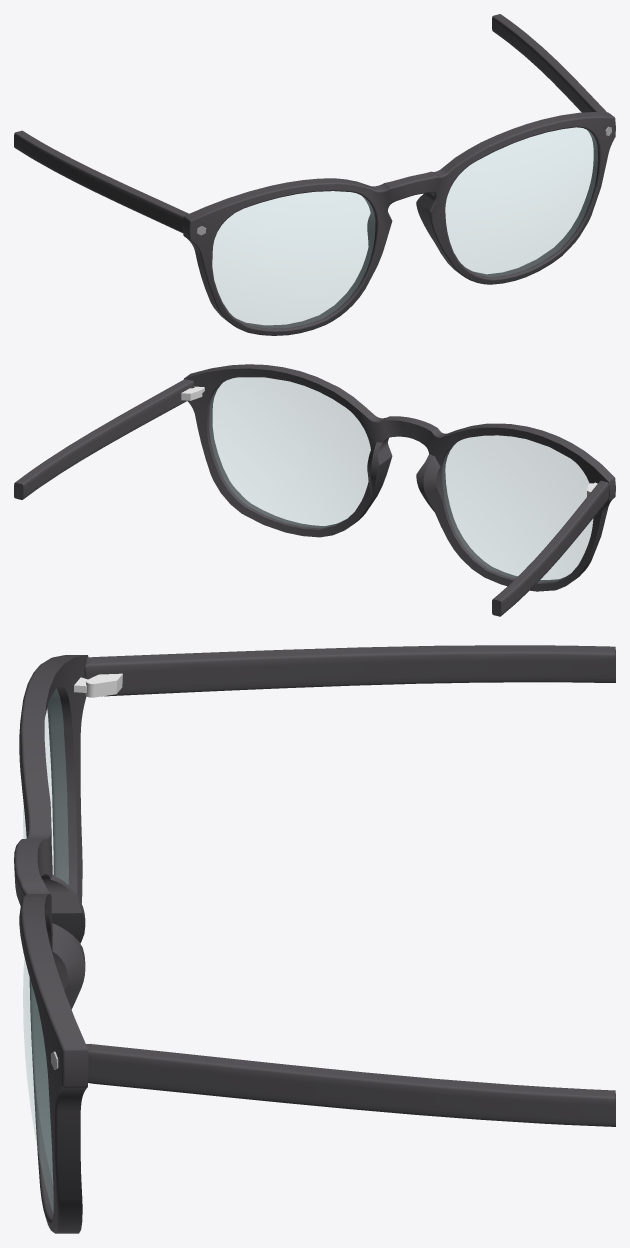
File: eyeglasses-transparent-skyblue.glb
3 views of the same model, one above another, from view 1: azimuth 30°, elevation 25°; view 2: azimuth 150°, elevation 25°; view 3: azimuth 270°, elevation 25° (orthographic). The views are drawn at different scales.
Visible parts, largest first — view 1: main, rightEar, leftEar; view 2: main, leftEar, rightEar; view 3: main, leftEar, rightEar.
Boxes of the visible parts, <box> form: main: <box>151,95,615,335</box>; rightEar: <box>14,130,159,218</box>; leftEar: <box>492,14,590,112</box>; main: <box>153,364,615,591</box>; leftEar: <box>14,397,161,499</box>; rightEar: <box>492,502,591,616</box>; main: <box>14,653,181,1233</box>; leftEar: <box>181,1053,615,1126</box>; rightEar: <box>181,645,615,692</box>.
Size of the model in its own units: 2.16 by 0.6519 by 1.21.
Materials: 4 (1 with a texture image).
